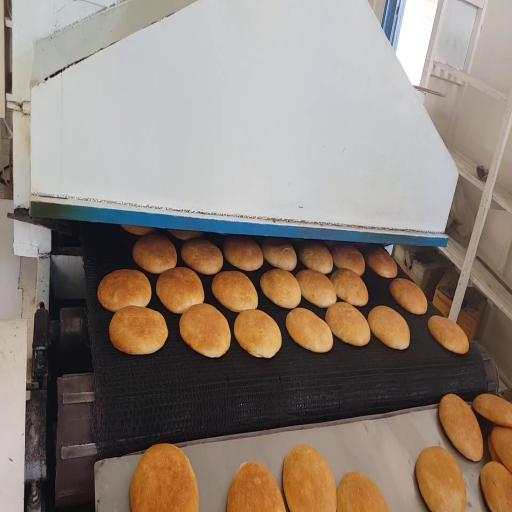bread: (130, 444, 198, 511), (283, 445, 336, 511), (415, 447, 466, 511), (439, 394, 483, 461), (109, 306, 168, 355), (227, 463, 285, 511), (180, 304, 230, 357), (234, 310, 281, 358), (98, 270, 151, 312), (156, 267, 204, 313), (286, 308, 333, 352), (337, 472, 389, 511), (326, 302, 370, 346), (212, 271, 258, 311), (368, 306, 410, 349), (133, 234, 177, 274), (260, 269, 301, 309), (428, 316, 469, 354), (480, 462, 511, 511), (296, 270, 336, 307), (181, 239, 223, 274), (331, 268, 368, 306), (390, 278, 427, 314), (224, 237, 263, 271), (473, 394, 511, 428), (262, 238, 297, 271), (299, 241, 333, 274), (331, 244, 365, 276), (366, 248, 397, 278), (491, 426, 511, 472), (168, 229, 202, 241), (488, 434, 501, 463), (122, 225, 156, 236)
